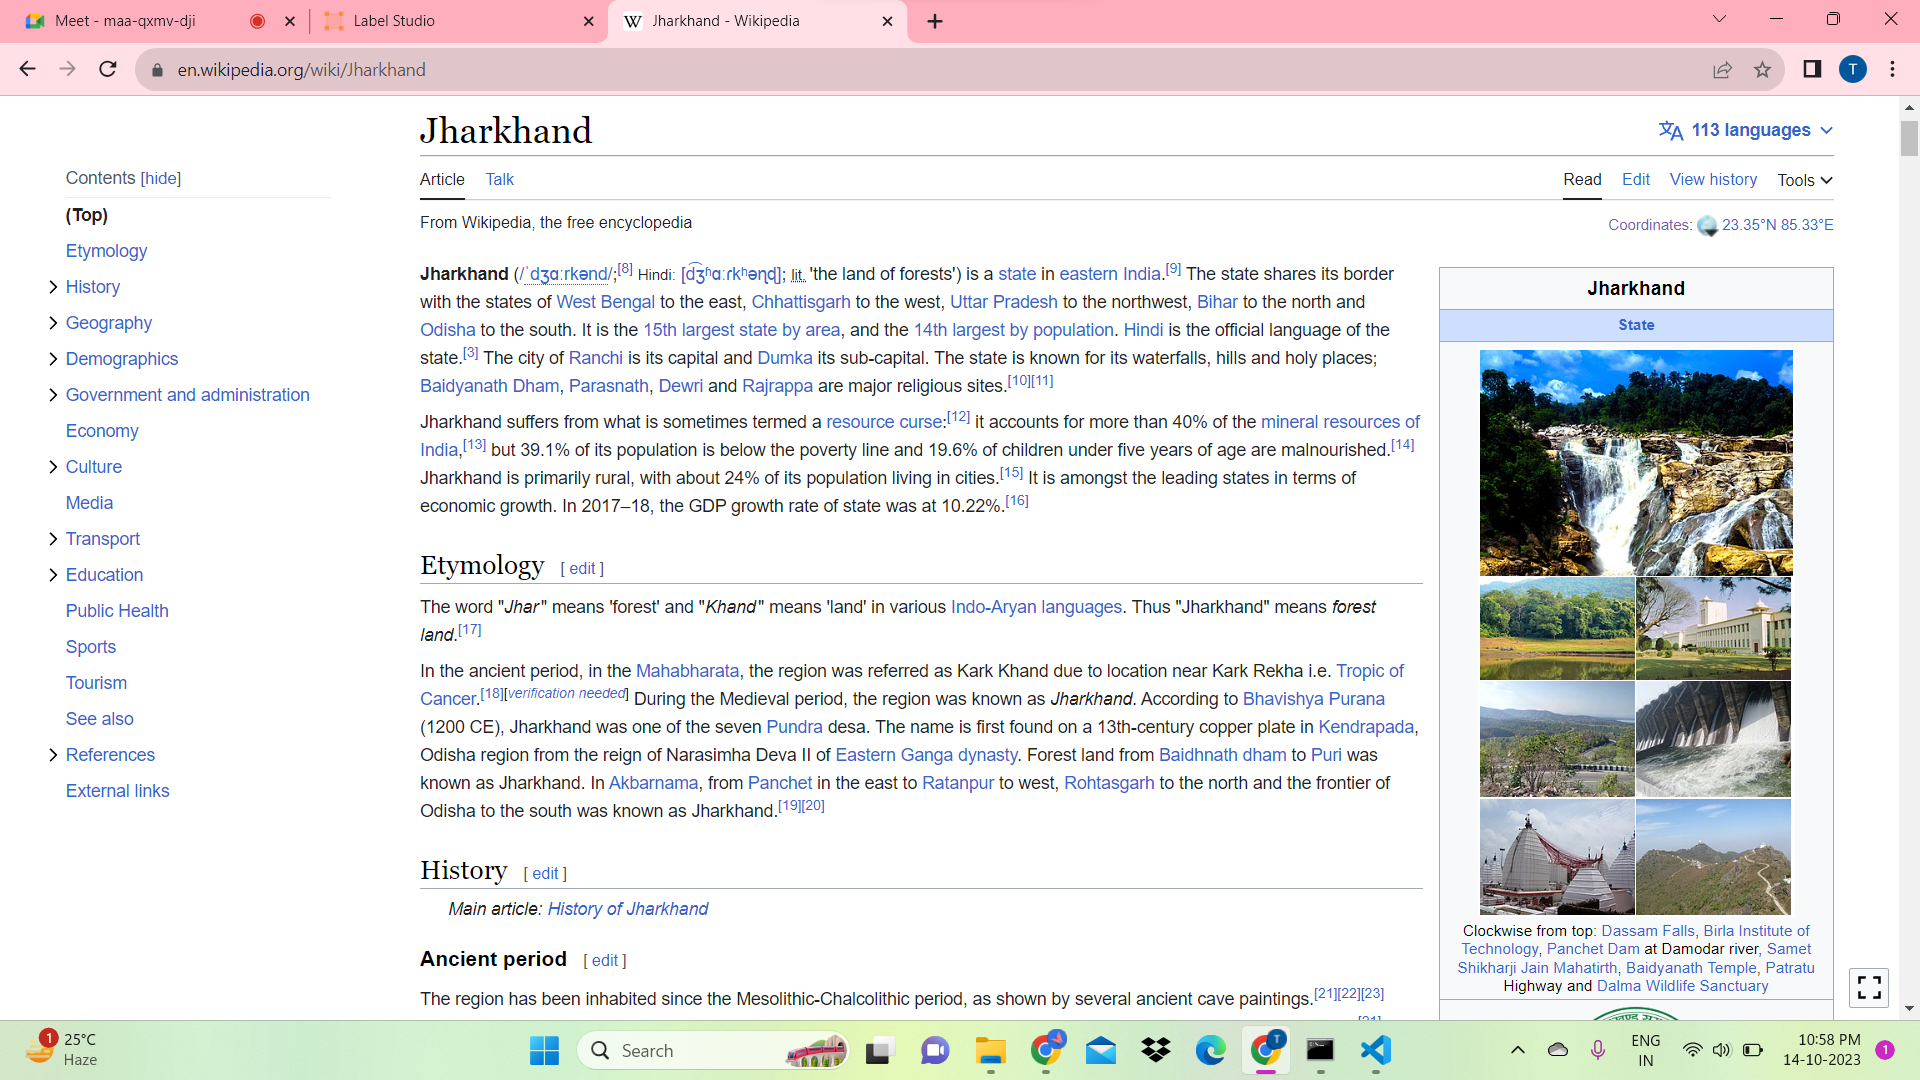Image: (1469, 336, 1801, 576), (1472, 671, 1797, 791), (1472, 798, 1792, 910), (1465, 574, 1797, 678)
Paragraph: (411, 654, 1408, 827), (421, 251, 1418, 397), (418, 407, 1439, 522), (58, 200, 326, 411), (404, 593, 1411, 649), (1448, 916, 1815, 1001), (61, 418, 210, 589), (58, 597, 240, 737), (411, 986, 1319, 1014), (434, 891, 727, 930), (401, 203, 725, 233), (411, 104, 615, 152), (411, 539, 567, 597), (61, 742, 196, 807), (406, 845, 533, 891), (411, 947, 591, 973)
